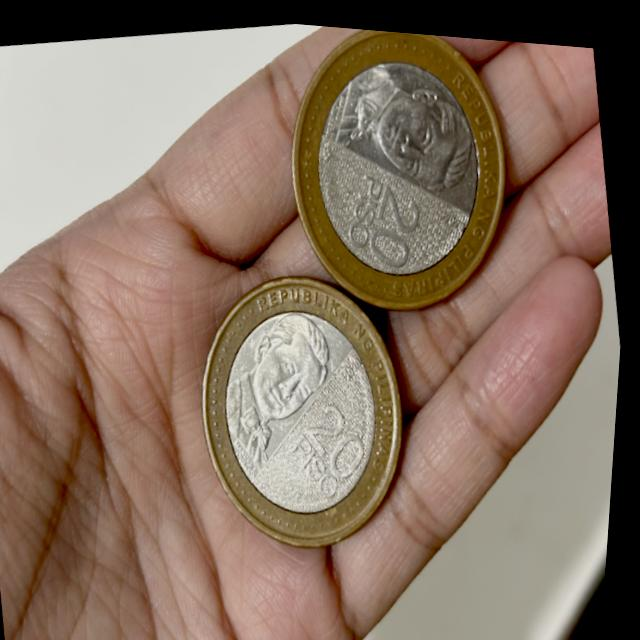20_New_Front: (286, 386, 385, 505), (331, 159, 435, 269)
